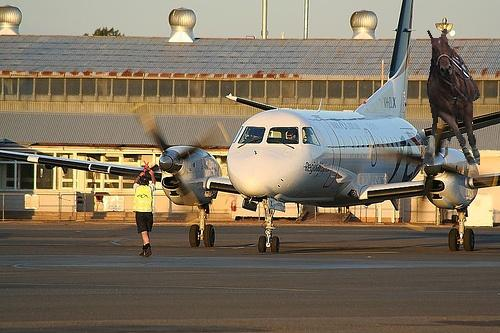tampered: (424, 30, 480, 165)
